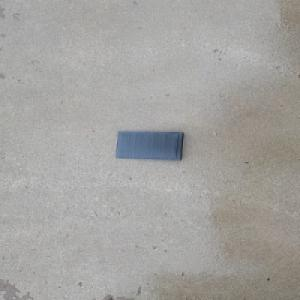PlasticPart: (113, 129, 184, 161)
